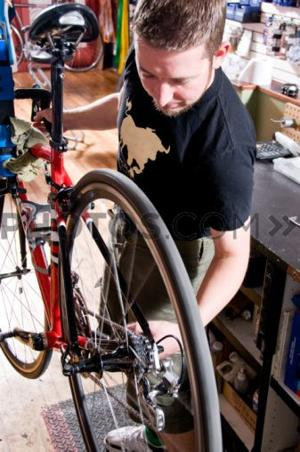person: (33, 1, 258, 452)
